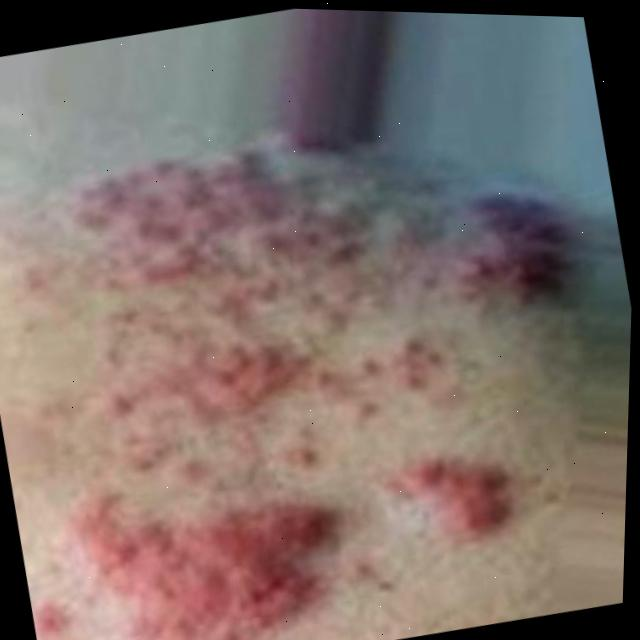Shingles: (0, 80, 638, 640)
